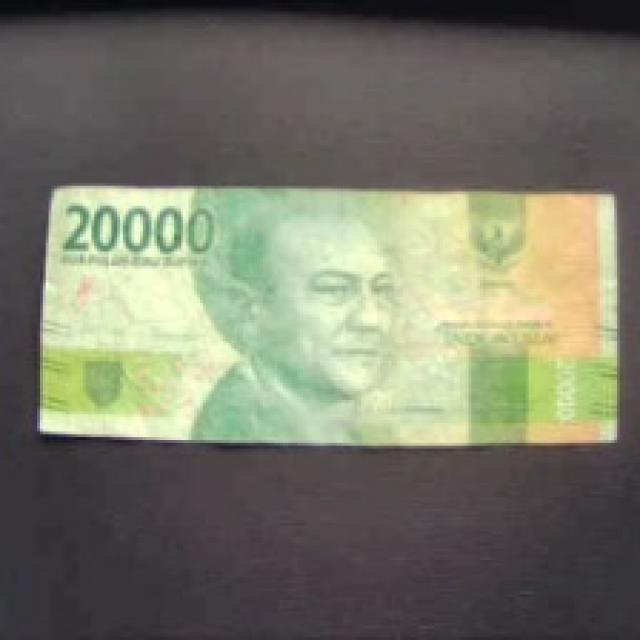dua puluh ribu rupiah: (7, 156, 640, 472)
